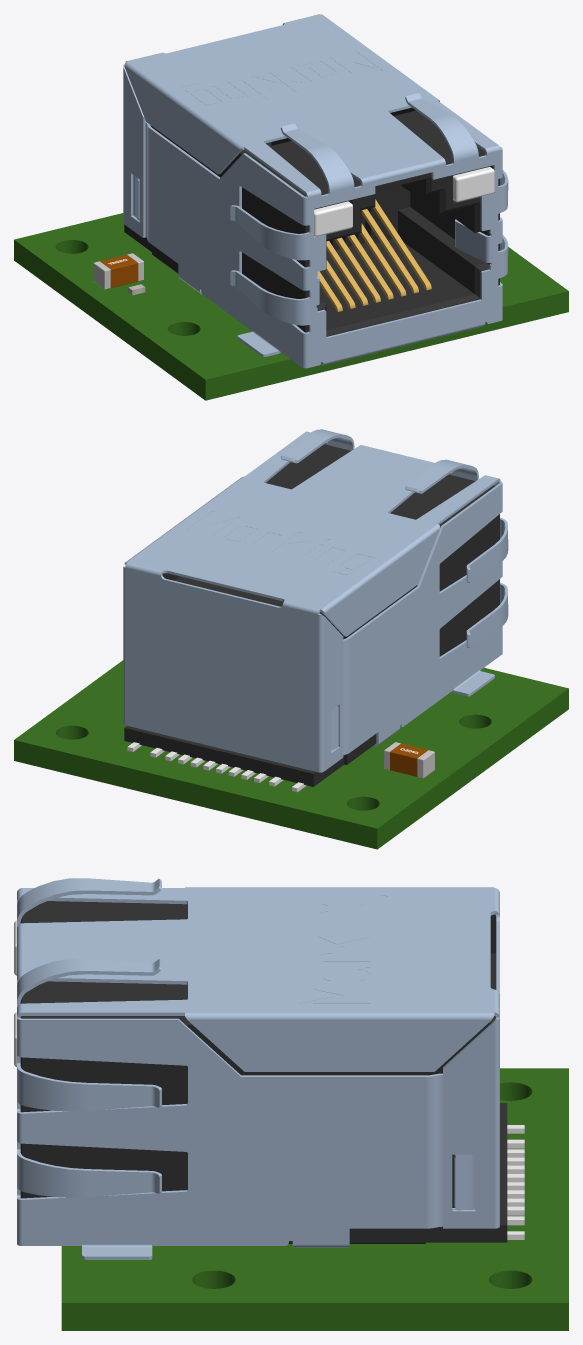
The model's file is LXR45-3d.glb.
3 views of the same model, one above another, from view 1: azimuth 30°, elevation 25°; view 2: azimuth 150°, elevation 25°; view 3: azimuth 270°, elevation 25° (orthographic). The views are drawn at different scales.
Visible parts, largest first — view 1: PCB023.001, PCB010, PCB286, PCB301, PCB270, PCB386, PCB293, PCB280, PCB008, PCB007, PCB438, PCB387 (+4 smaller); view 2: PCB023.001, PCB010, PCB301, PCB270, PCB447, PCB011, PCB268, PCB448; view 3: PCB023.001, PCB010, PCB314, PCB270, PCB333, PCB448.
Part boxes in pixels (x1,y1,x2,y2): PCB023.001: (123,14,508,368); PCB010: (14,213,568,400); PCB286: (319,239,474,329); PCB301: (152,126,304,331); PCB270: (241,110,485,196); PCB386: (398,210,474,293); PCB293: (306,165,499,336); PCB280: (326,185,410,251); PCB008: (453,167,494,202); PCB007: (314,201,352,236); PCB438: (326,294,479,336); PCB387: (398,207,486,265); PCB023.001: (123,429,508,772); PCB010: (14,660,568,849); PCB301: (347,514,499,763); PCB270: (266,444,495,613); PCB447: (124,728,313,786); PCB011: (390,743,428,776); PCB268: (173,576,283,606); PCB448: (124,726,315,773); PCB023.001: (17,878,499,1259); PCB010: (61,1068,568,1330); PCB314: (22,1025,425,1242); PCB270: (22,901,494,1022); PCB333: (425,1023,507,1242); PCB448: (500,1103,507,1224).
Bounding box in the file's own units: 0.0292 × 0.0182 × 0.0292.
